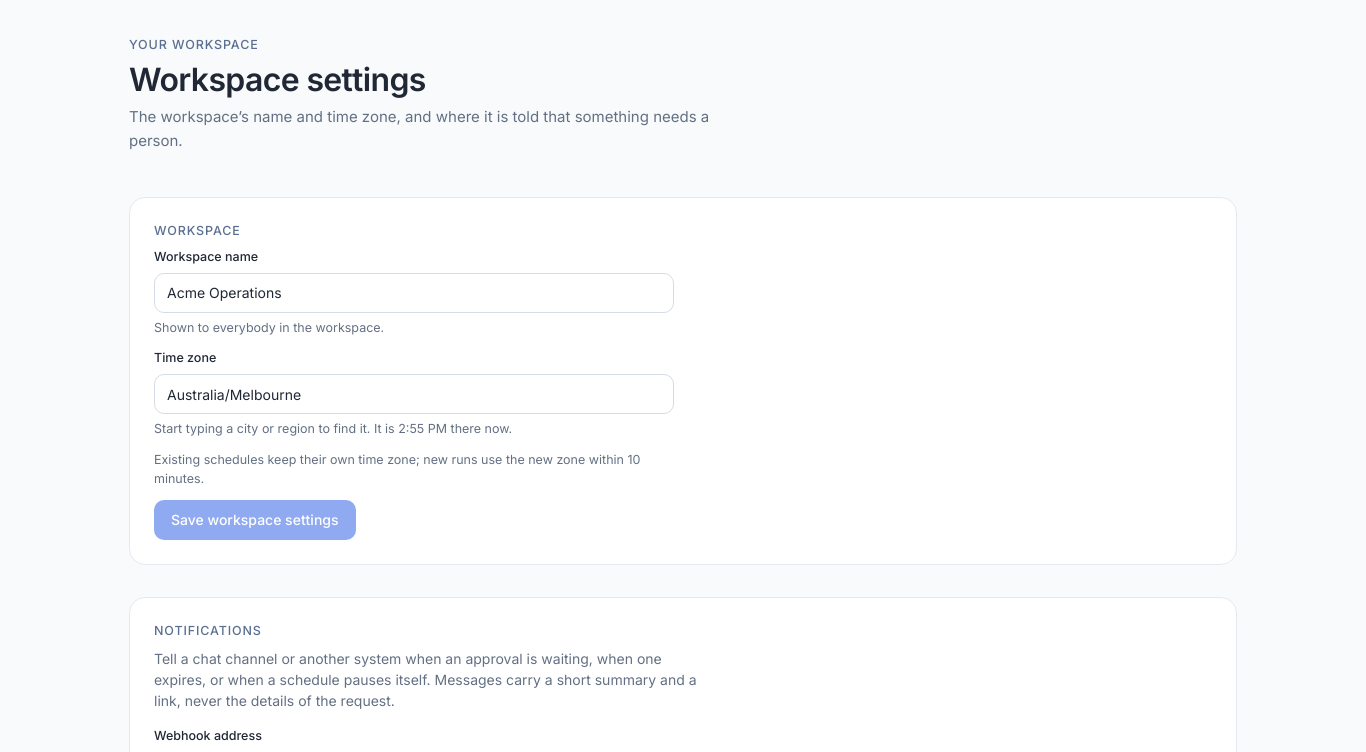
Test case: workspace name and time zone › saves the trimmed name and the chosen zone to this workspace, and says so
The image size is (1366, 752).
Step 1. Replace the text in the field labelled "Workspace name" with "  Acme Care " → x=414, y=293, box [154,273,674,313]
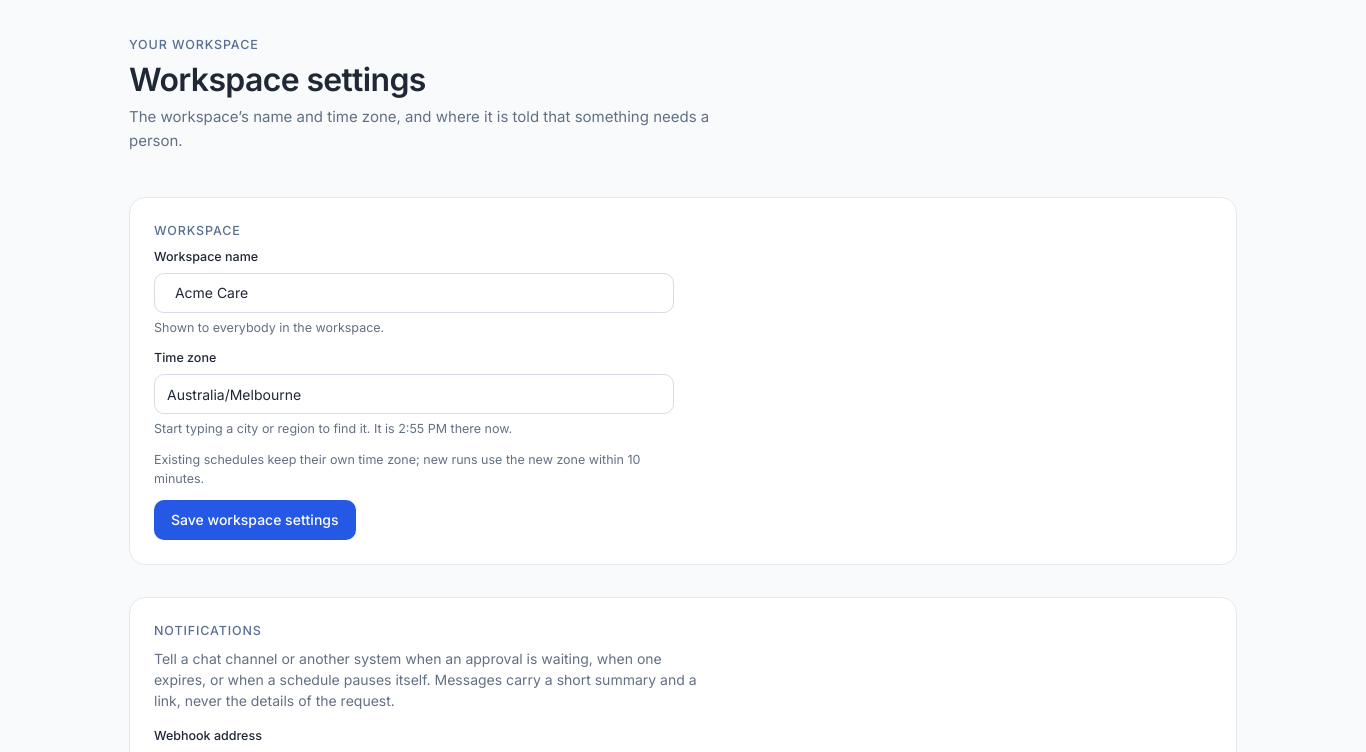
Step 2. Replace the text in the field labelled "Time zone" with "Europe/London" → x=414, y=394, box [154,374,674,414]
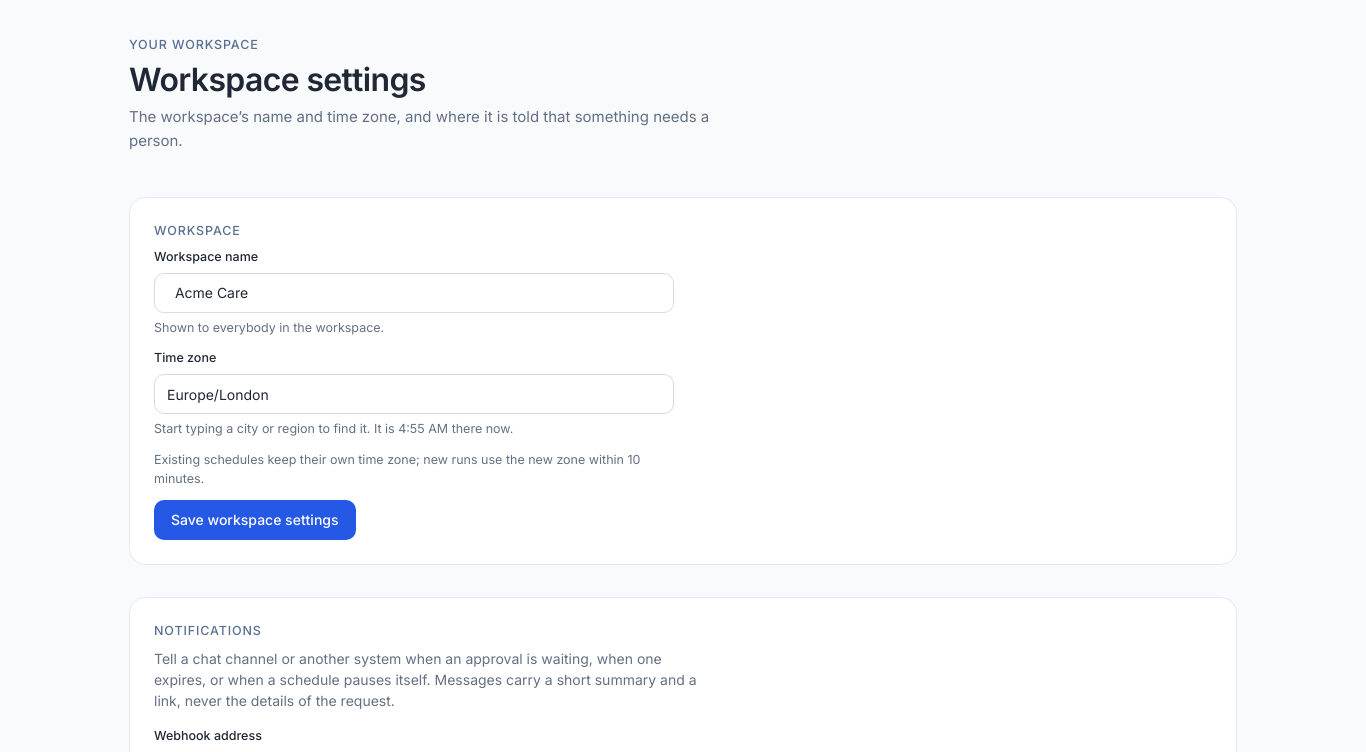
Step 3. Click the button "Save workspace settings" → x=255, y=520, box [154,500,356,540]
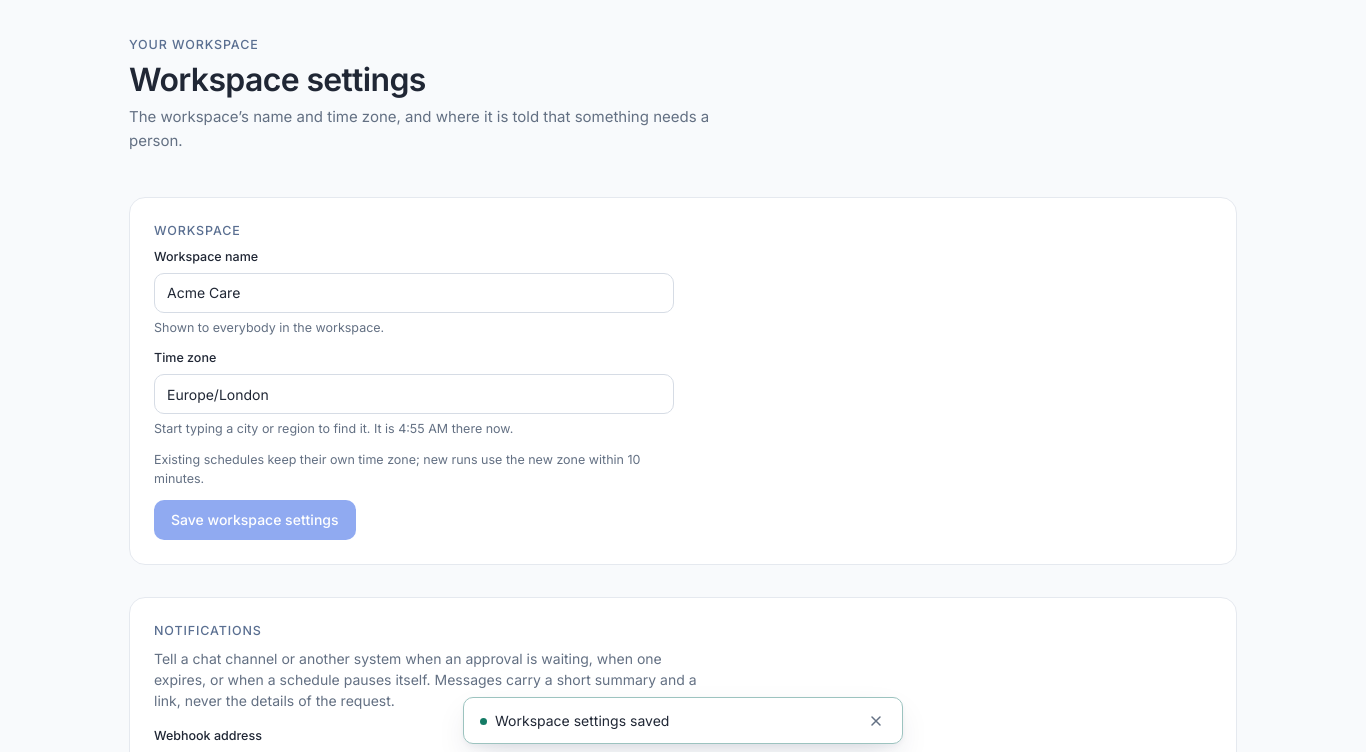
Result: the text "Workspace settings saved" is shown at [480,710,669,731]
Result: the field labelled "Workspace name" holds "Acme Care" at [154,273,674,313]
